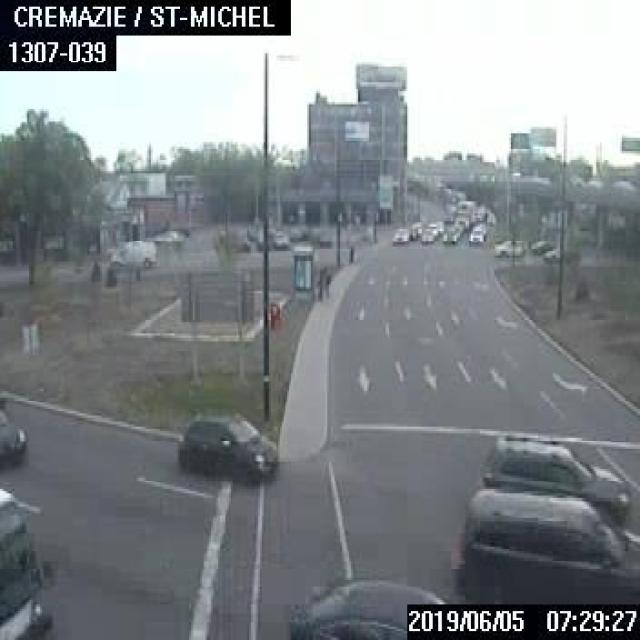bus: (0, 489, 49, 638)
pedestrian: (322, 264, 329, 298), (315, 266, 322, 300), (347, 244, 352, 264)
vehicle: (458, 487, 638, 600), (481, 432, 631, 525), (287, 571, 449, 638), (178, 407, 276, 478), (0, 391, 27, 462), (106, 238, 156, 269), (493, 236, 525, 256), (453, 198, 474, 228), (152, 228, 184, 246), (528, 237, 552, 253), (389, 225, 410, 242), (467, 224, 483, 243), (543, 247, 558, 261), (419, 227, 433, 242), (442, 227, 456, 242), (426, 222, 437, 237)
